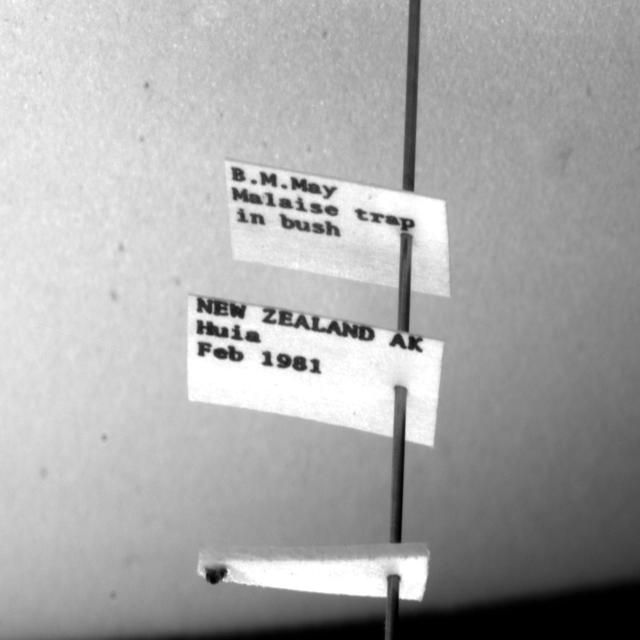typed_label: (188, 294, 444, 446), (225, 159, 450, 296)
